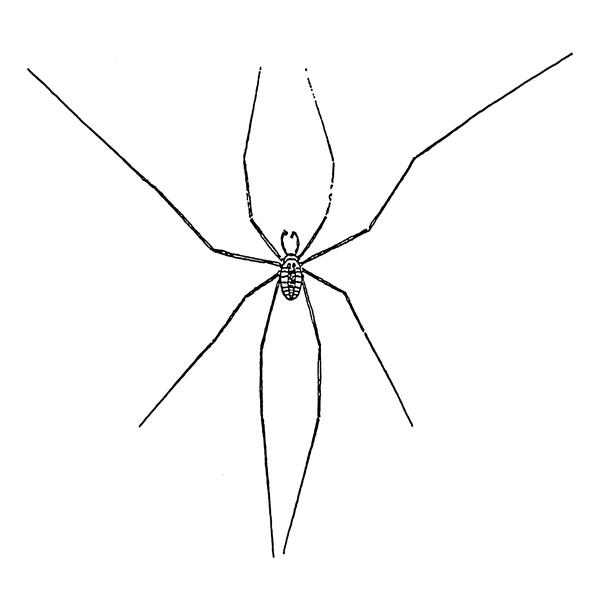Daddy Long Legs Spider: (28, 52, 575, 557)
